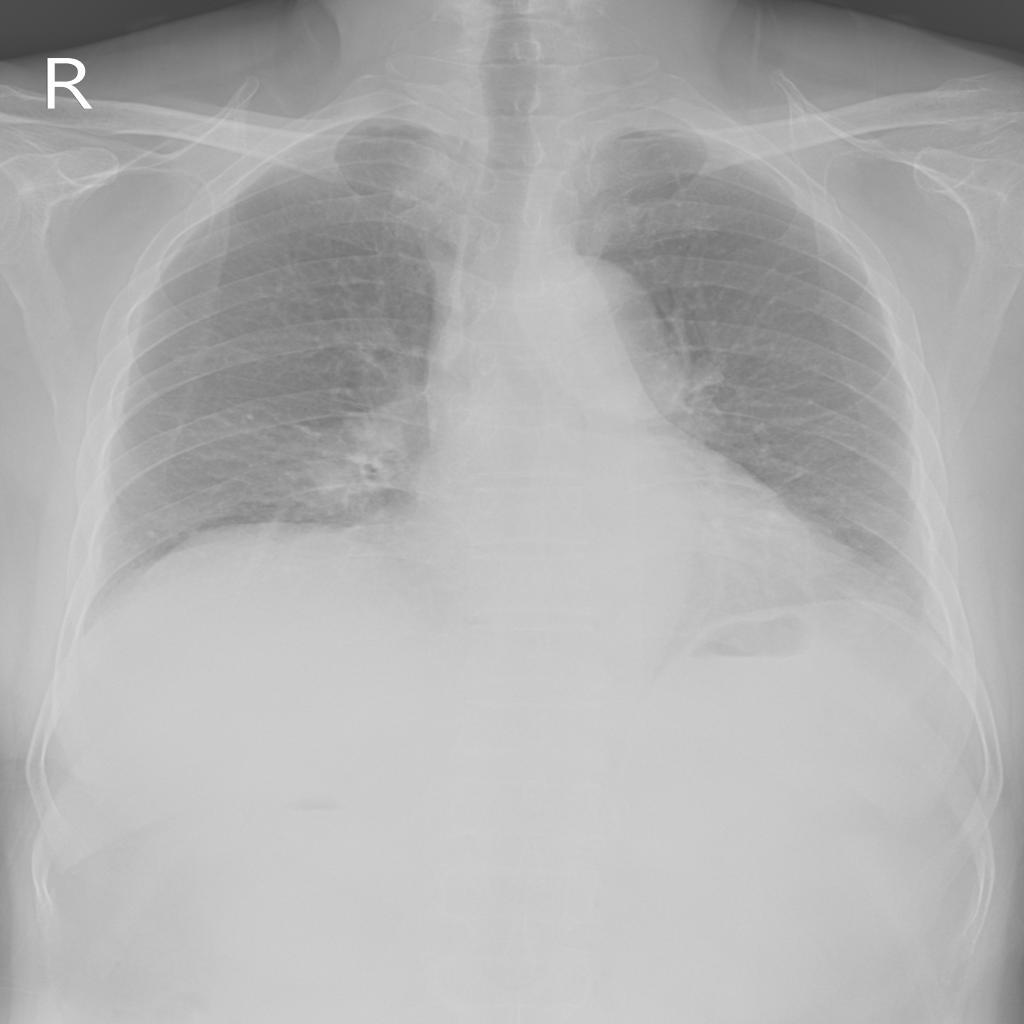Nodule: (505, 259, 688, 418)
